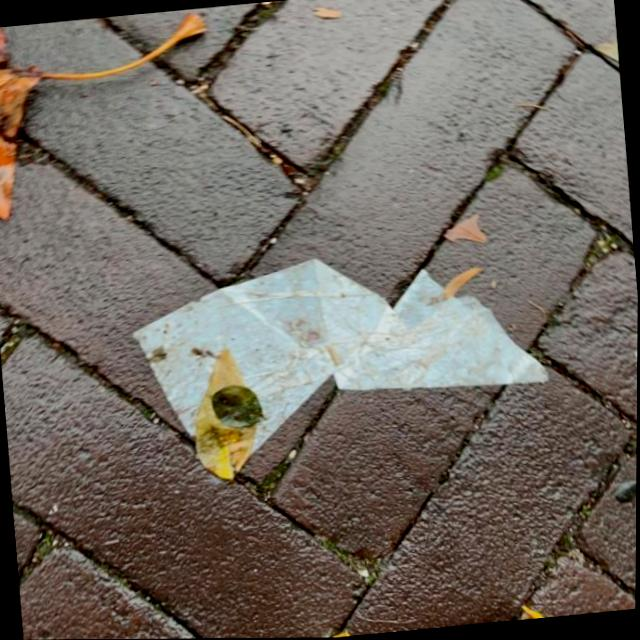Paper: (122, 234, 564, 485)
